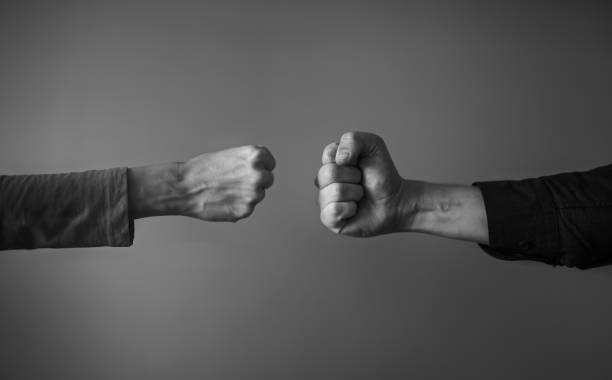rock: (307, 126, 408, 256), (178, 134, 286, 233)
